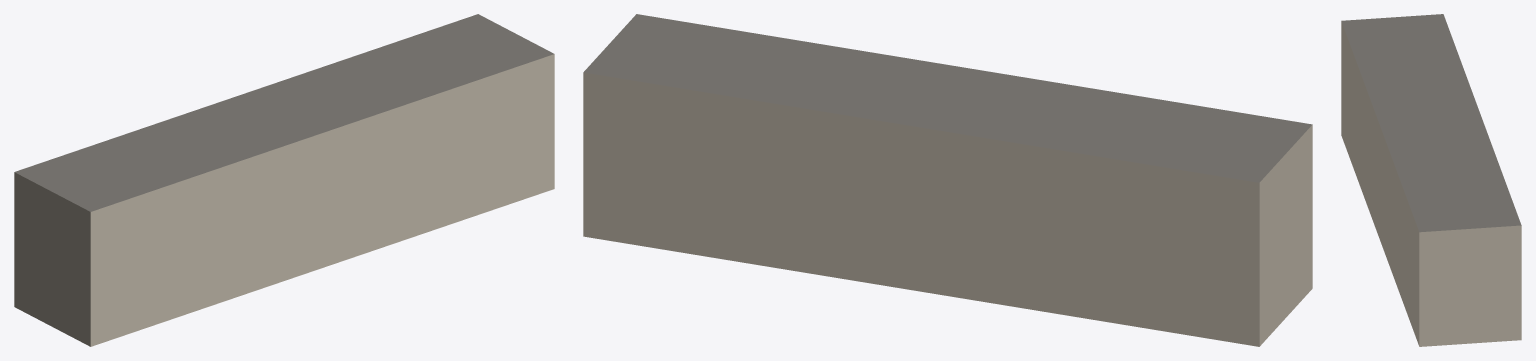
The picture shows the model from 3 angles, left to right: view 1: azimuth 30°, elevation 25°; view 2: azimuth 150°, elevation 25°; view 3: azimuth 270°, elevation 25°; orthographic projection. The views are drawn at different scales.
Visible parts, largest first — view 1: HP-w1286955527; view 2: HP-w1286955527; view 3: HP-w1286955527.
Boxes of the visible parts, x1,y1,x2,y2 form: HP-w1286955527: (14,14,554,346); HP-w1286955527: (583,14,1312,346); HP-w1286955527: (1341,14,1521,346).
Bounding box in the file's own units: 73.46 × 18 × 25.63.
